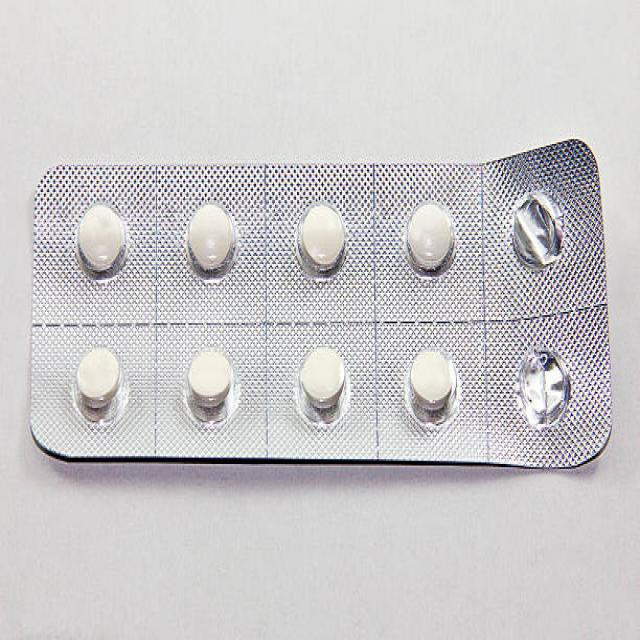Empty: (503, 330, 581, 442), (503, 183, 571, 278)
Pill: (66, 189, 137, 295), (397, 332, 467, 436), (70, 329, 137, 436), (174, 197, 243, 296), (180, 336, 242, 435), (398, 195, 463, 284), (294, 339, 354, 428), (294, 191, 350, 279)
